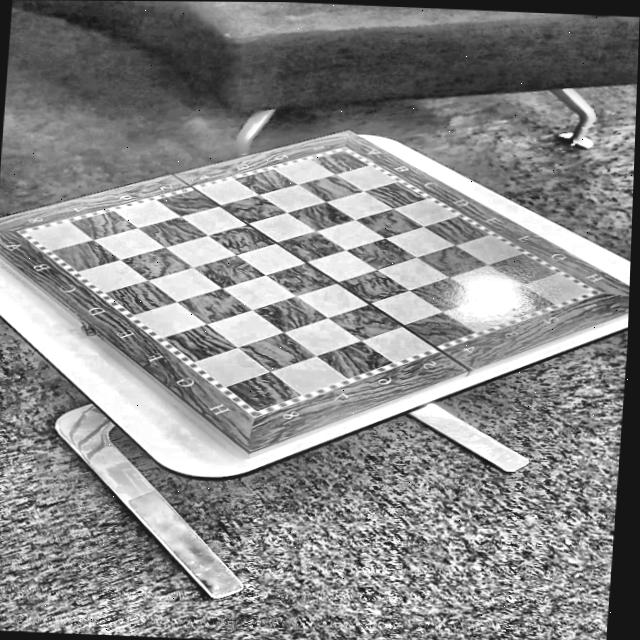chessboard: (25, 149, 589, 409)
